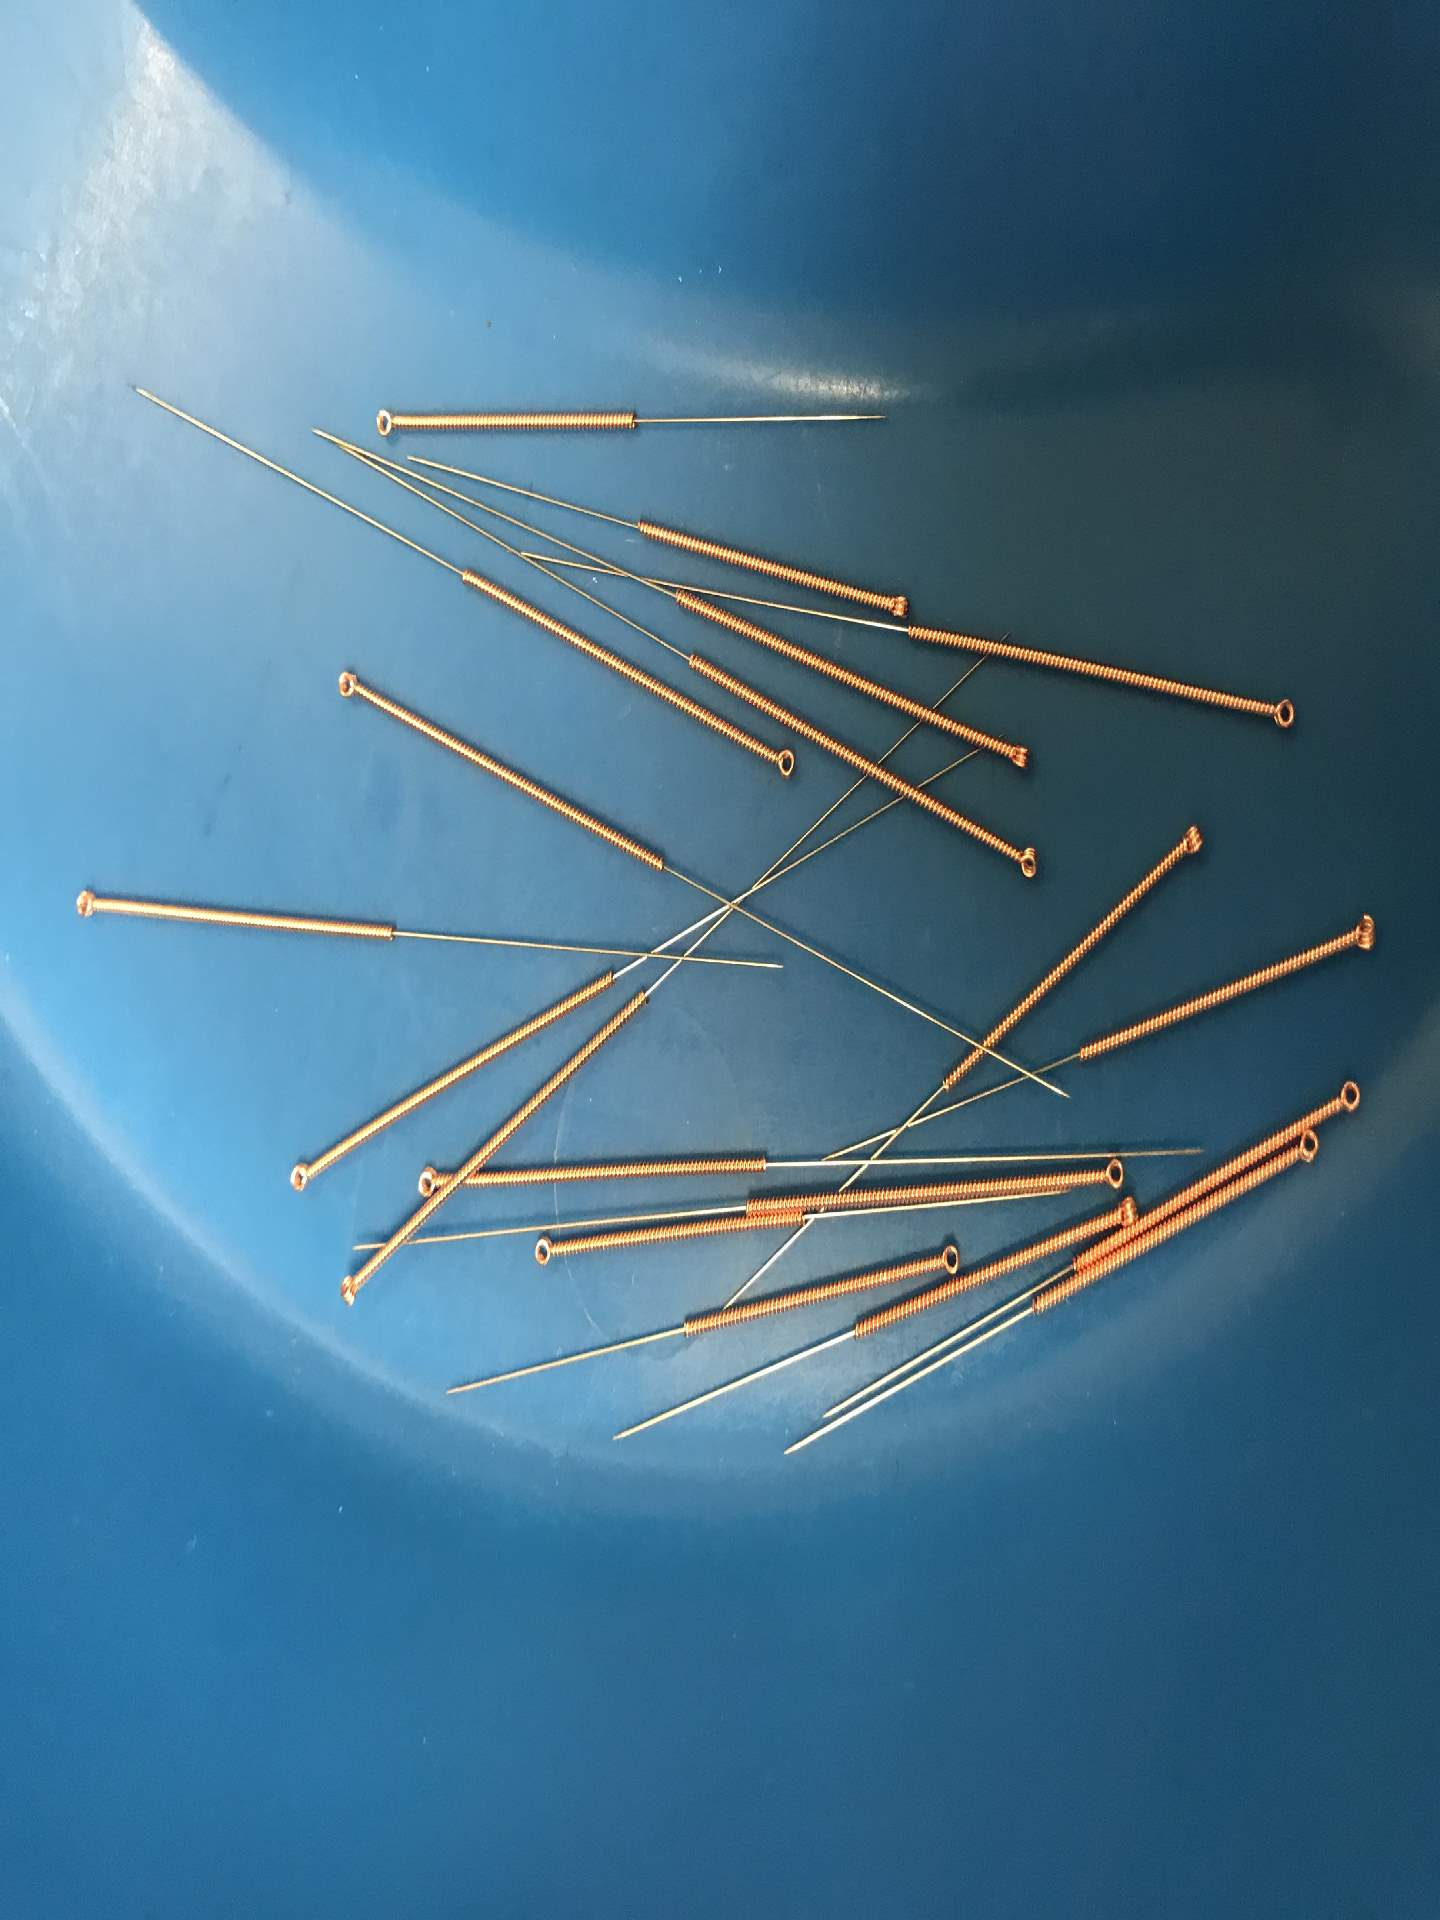needle: (1339, 907, 1386, 960), (1324, 1067, 1367, 1123), (1258, 686, 1302, 739), (278, 1149, 321, 1199), (1169, 813, 1209, 865), (761, 738, 802, 785), (67, 878, 104, 928), (1004, 839, 1045, 884), (330, 658, 366, 708), (365, 398, 402, 444), (330, 1265, 366, 1311), (998, 735, 1038, 776), (1094, 1154, 1131, 1193), (880, 584, 917, 624), (526, 1232, 563, 1273), (932, 1237, 965, 1279), (1293, 1125, 1325, 1169), (1109, 1191, 1141, 1231), (411, 1163, 442, 1200)
